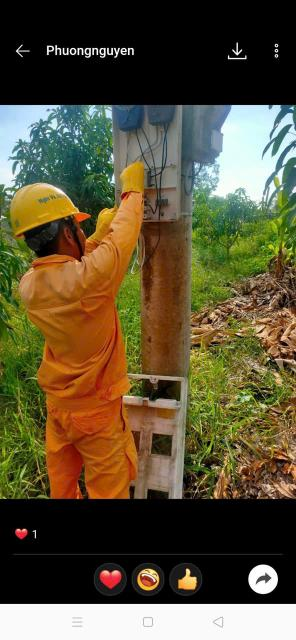gloves: (101, 154, 170, 200), (92, 201, 125, 246)
helmet: (2, 161, 90, 236)
